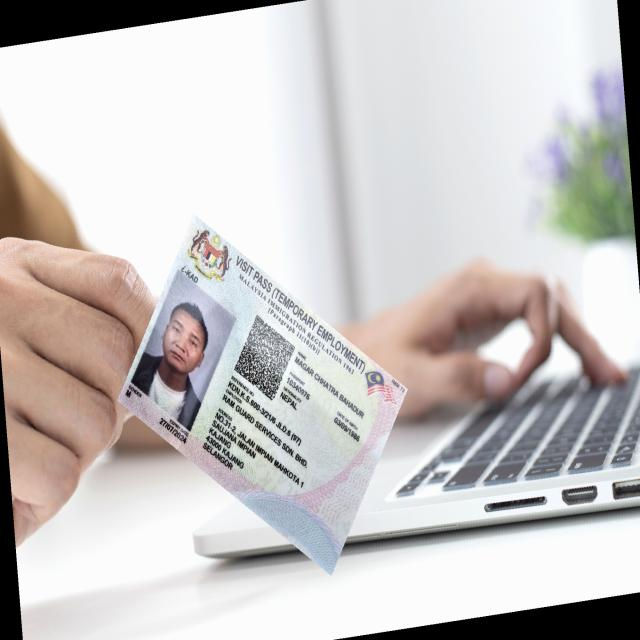ikad-temp: (117, 212, 408, 576)
